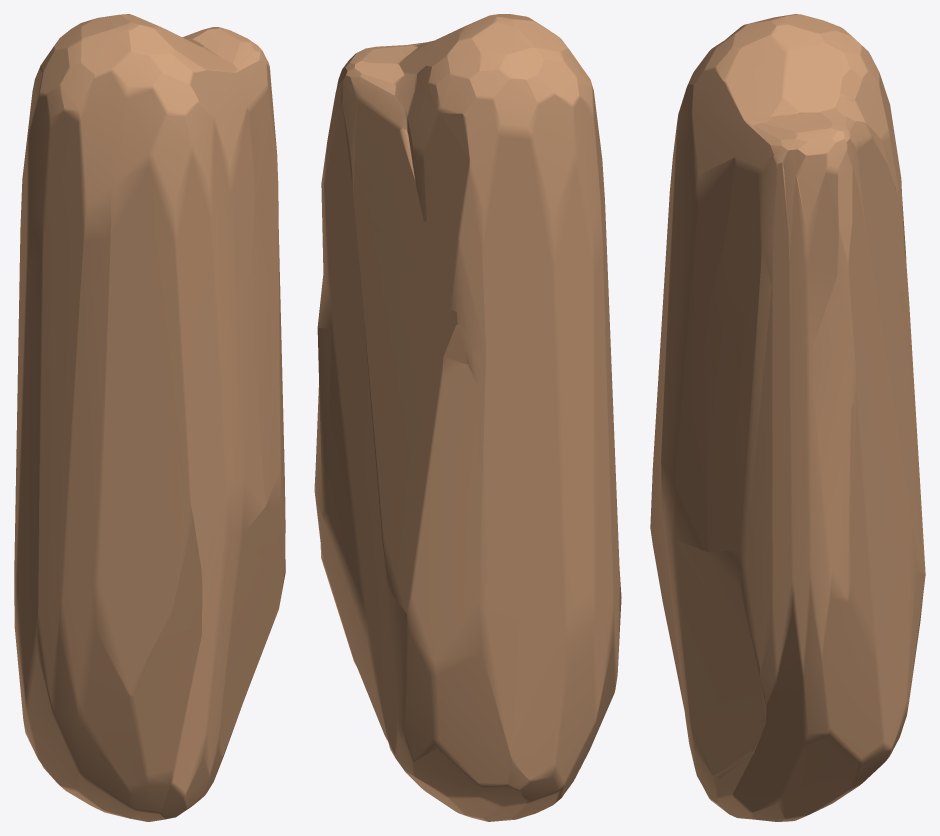
The picture shows the model from 3 angles, left to right: view 1: azimuth 30°, elevation 25°; view 2: azimuth 150°, elevation 25°; view 3: azimuth 270°, elevation 25°; orthographic projection.
Visible parts, largest first — view 1: Mesh_24_LOD0; view 2: Mesh_24_LOD0; view 3: Mesh_24_LOD0.
Boxes of the visible parts, x1,y1,x2,y2 form: Mesh_24_LOD0: (14,14,285,821); Mesh_24_LOD0: (314,14,621,821); Mesh_24_LOD0: (650,14,925,821).
Size of what is drawn, in the model's own units: 271 by 770 by 243.
